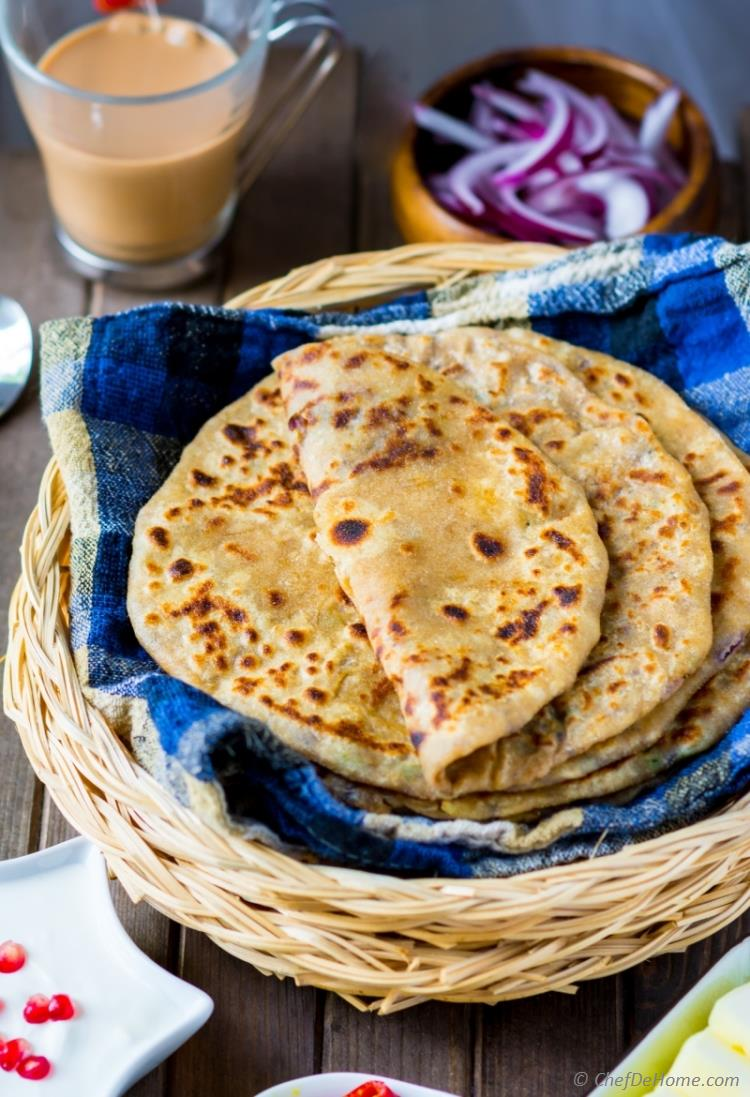aloo_paratha: (127, 327, 750, 823)
